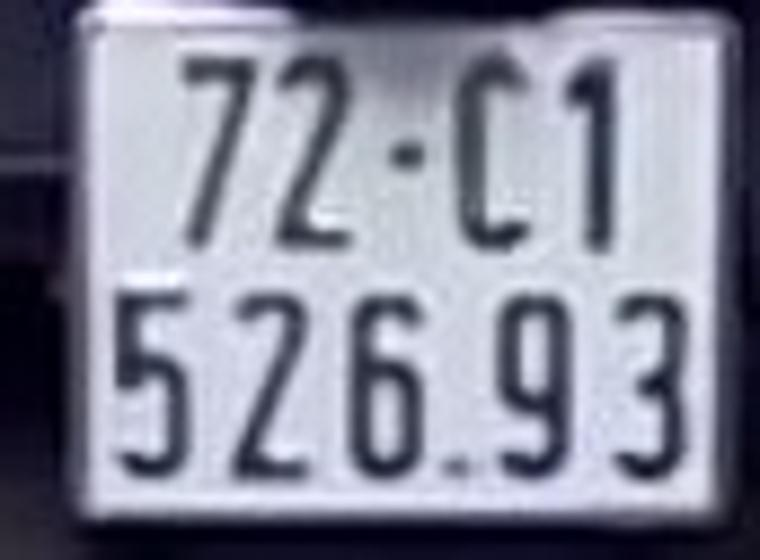-: (381, 136, 442, 184)
.: (441, 436, 477, 492)
1: (556, 45, 631, 257)
2: (271, 47, 360, 256), (231, 286, 317, 488)
3: (611, 286, 688, 479)
5: (112, 281, 200, 480)
6: (343, 288, 429, 480)
7: (171, 49, 258, 254)
9: (496, 286, 571, 484)
C: (451, 44, 540, 254)
